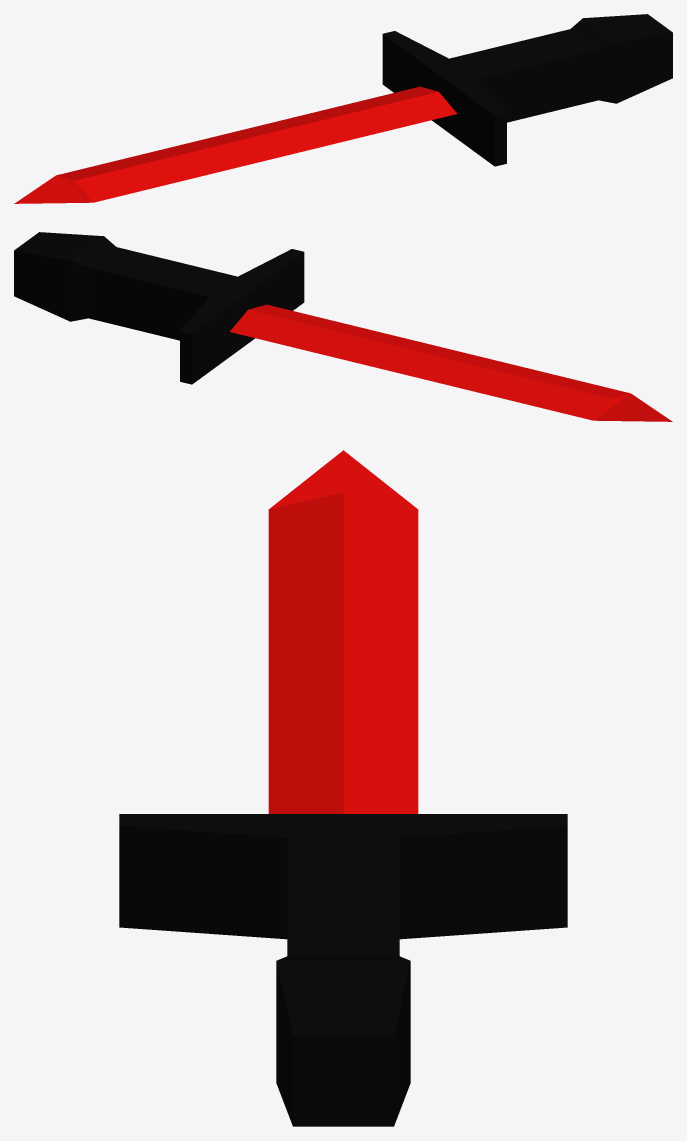
Rendered from Sword.fbx.
The picture shows the model from 3 angles, top to bottom: view 1: azimuth 30°, elevation 25°; view 2: azimuth 150°, elevation 25°; view 3: azimuth 270°, elevation 25°; orthographic projection. The views are drawn at different scales.
Visible parts, largest first — view 1: Cube; view 2: Cube; view 3: Cube.
Boxes of the visible parts, <box> form: Cube: <box>14,14,672,203</box>; Cube: <box>14,232,672,421</box>; Cube: <box>119,450,567,1126</box>.
Bounding box in the file's own units: 1065 × 96 × 320.
